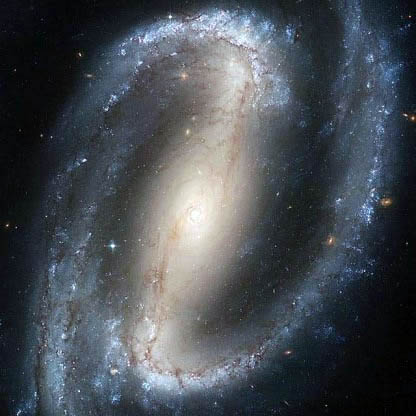NGC 1300: (24, 10, 401, 407)
